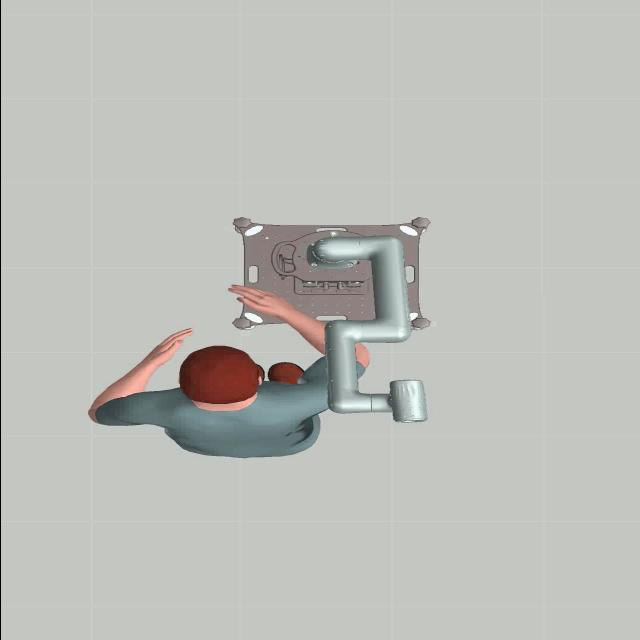human: (76, 286, 382, 470)
robot: (304, 215, 434, 430)
